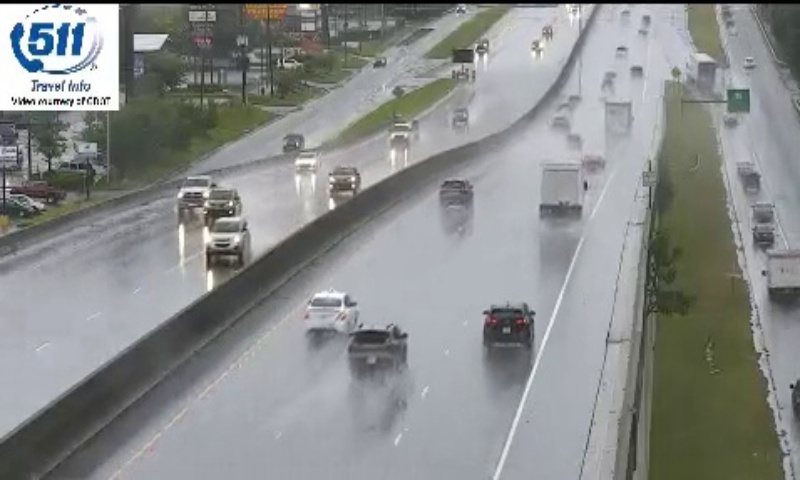car: (348, 323, 406, 371), (304, 291, 358, 333), (483, 304, 533, 346), (438, 179, 473, 209)
small-truck: (538, 161, 585, 219)
